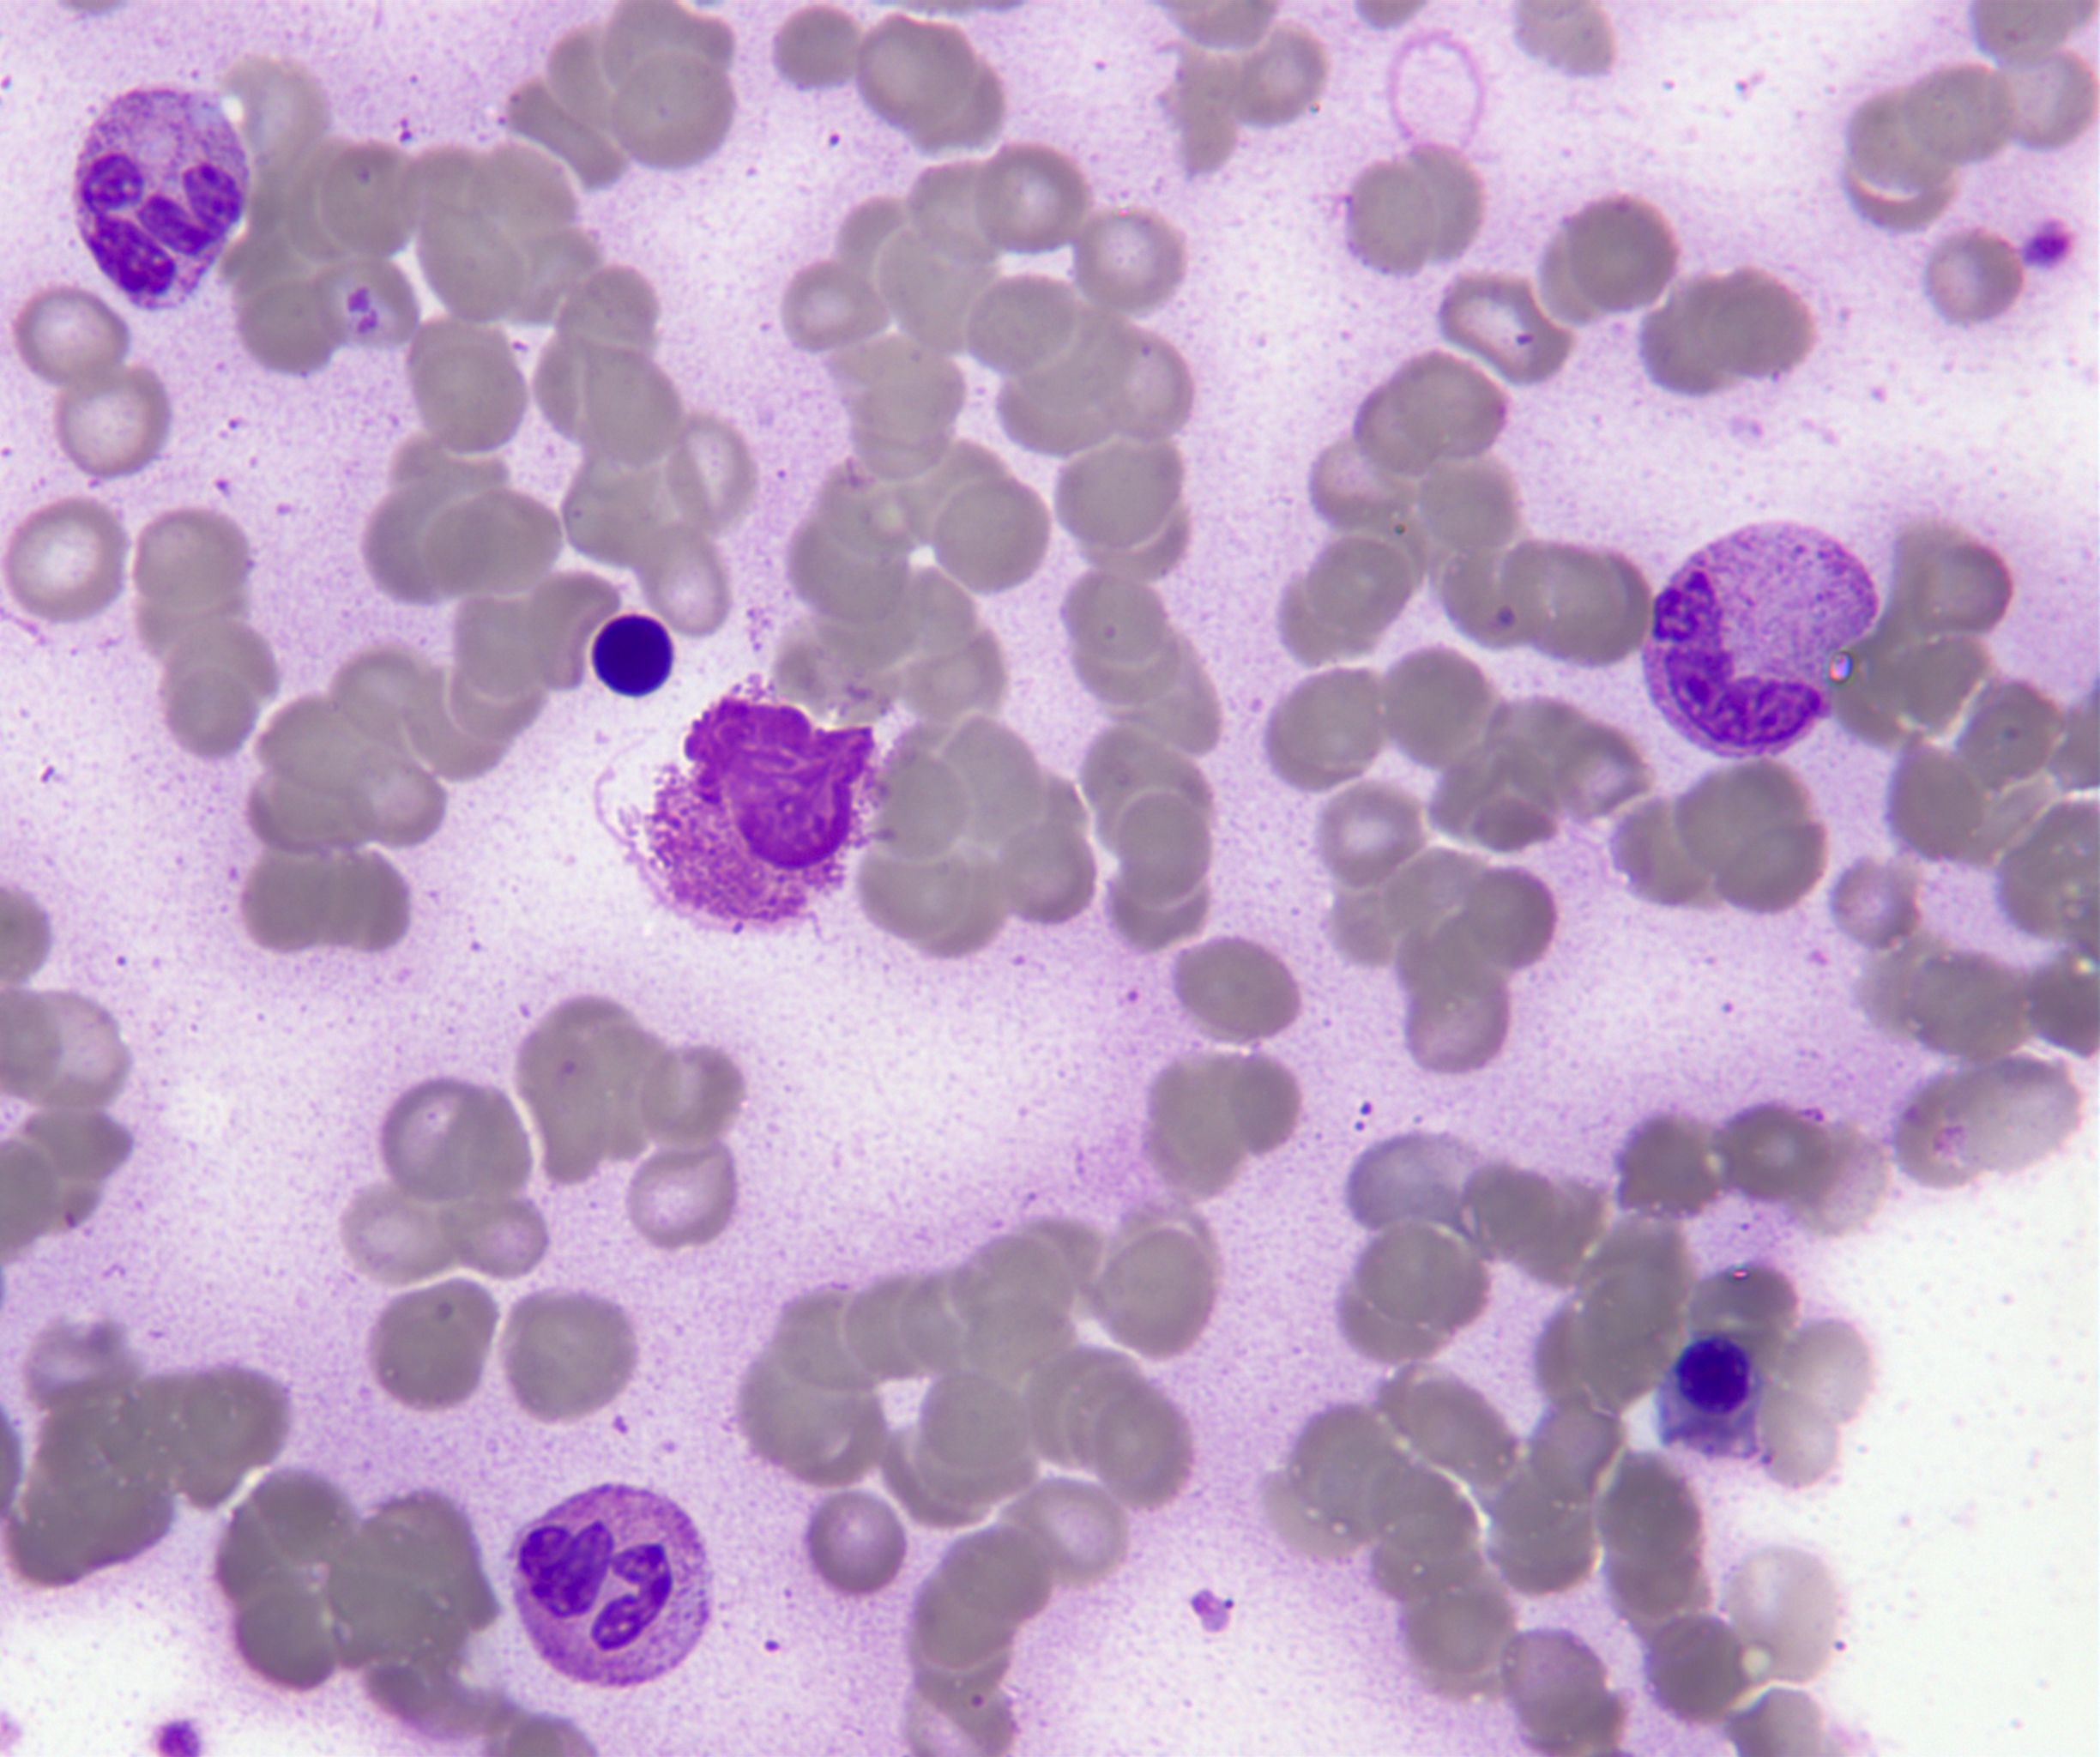23: (1655, 1338, 1760, 1457)
5: (1641, 523, 1877, 761)
6: (515, 1487, 710, 1687), (75, 87, 251, 309)
x: (624, 700, 897, 935), (591, 614, 673, 694)
